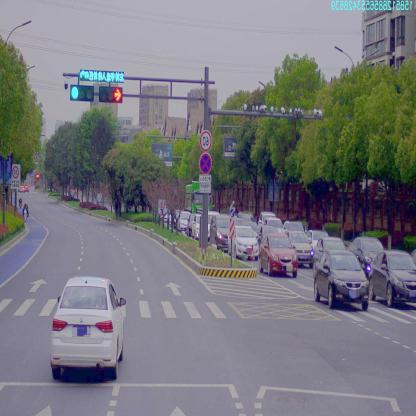traffic-light: (78, 70, 124, 80), (70, 84, 93, 101), (100, 87, 124, 102)
